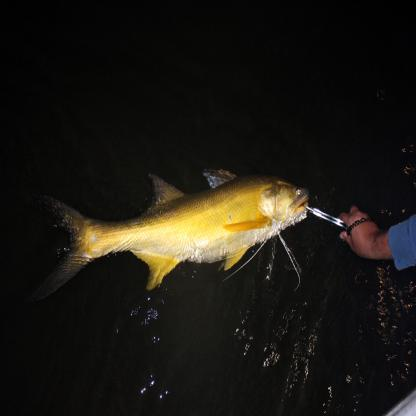fish: (33, 168, 312, 309)
